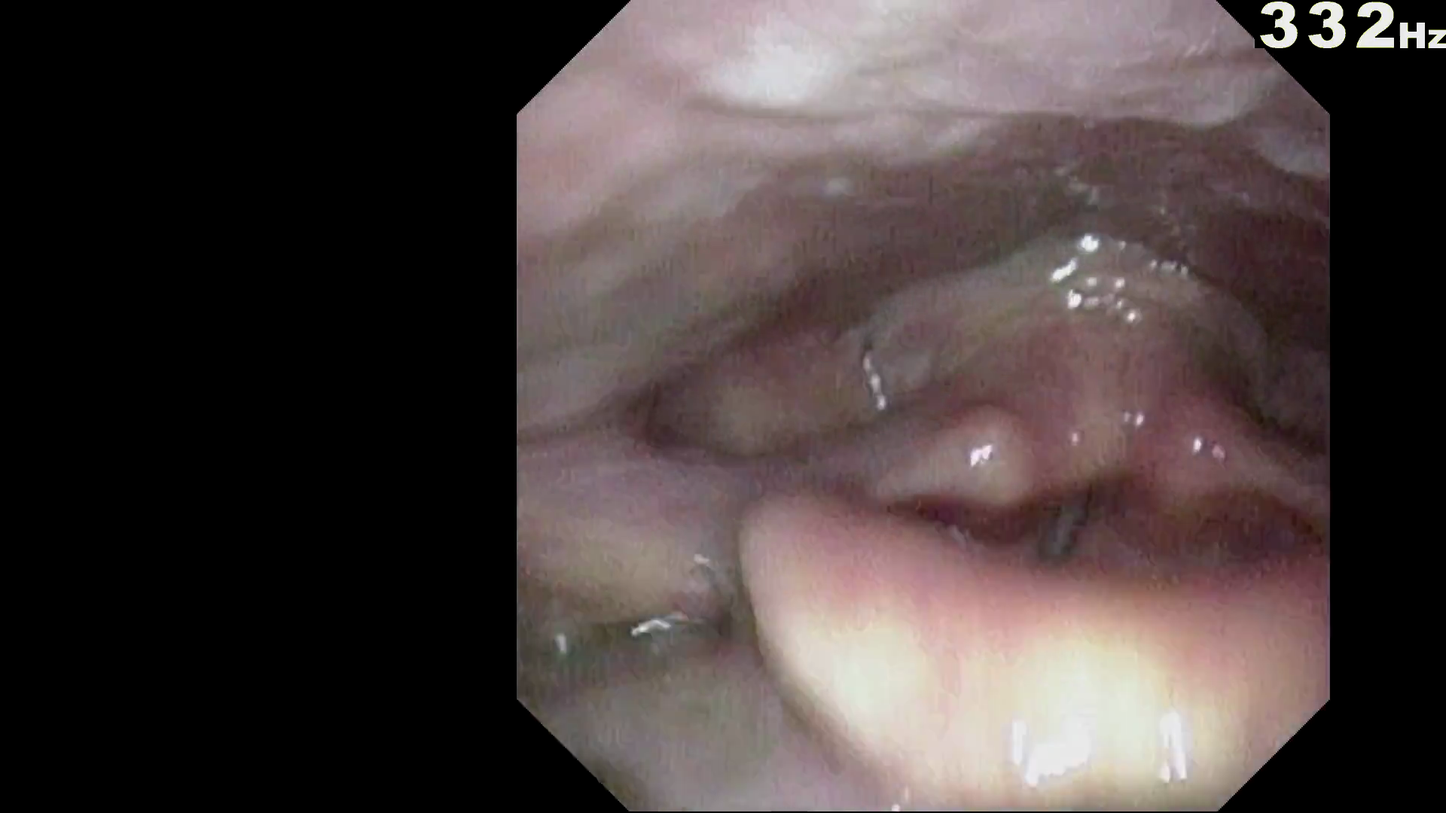epiglottis: (728, 435, 1313, 699), (702, 366, 1320, 592)
trachea: (1037, 410, 1158, 530)
